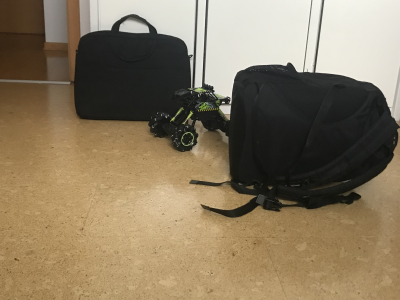remote control car: (146, 82, 236, 153)
